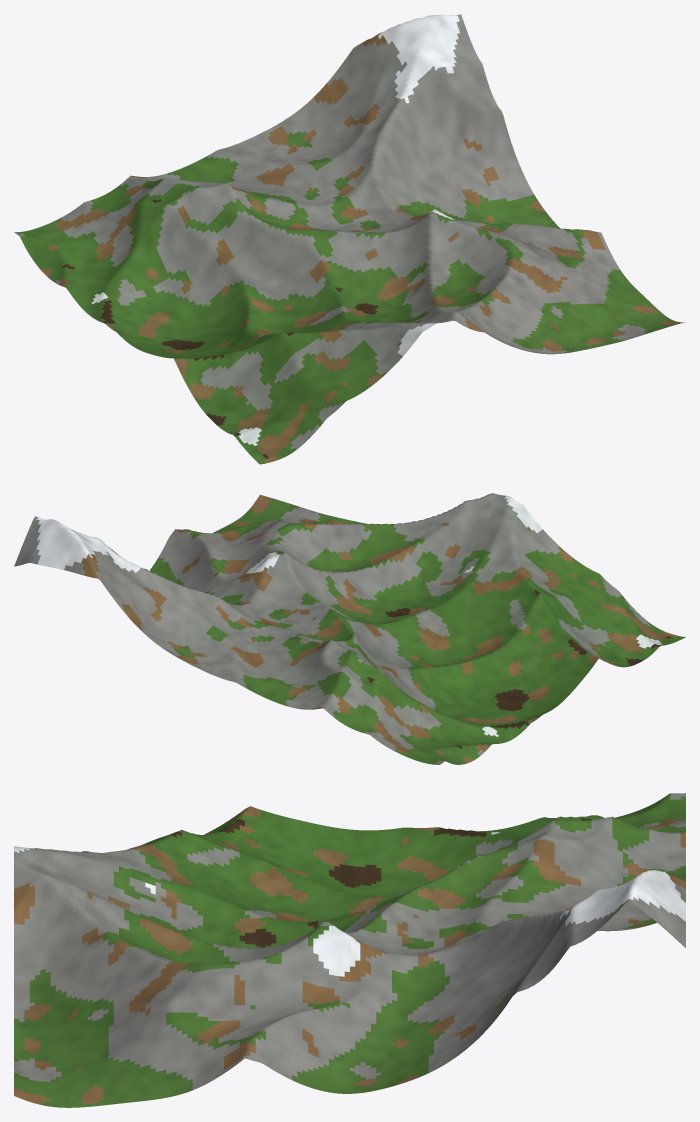
Rendered from chunk_1_0.glb.
3 renders of one model, top to bottom at view 1: azimuth 30°, elevation 25°; view 2: azimuth 150°, elevation 25°; view 3: azimuth 270°, elevation 25°, orthographic. The views are drawn at different scales.
Parts seen in each view (by area): view 1: Surface_Gravel, Surface_Grass, Surface_Dirt, Surface_Snow, Surface_Mud; view 2: Surface_Gravel, Surface_Grass, Surface_Dirt, Surface_Snow, Surface_Mud; view 3: Surface_Gravel, Surface_Grass, Surface_Dirt, Surface_Snow, Surface_Mud.
Boxes of the visible parts, left/top/right/bottom form: Surface_Gravel: left=14, top=14, right=646, bottom=449; Surface_Grass: left=17, top=131, right=675, bottom=464; Surface_Dirt: left=41, top=32, right=685, bottom=463; Surface_Snow: left=91, top=14, right=459, bottom=445; Surface_Mud: left=62, top=199, right=378, bottom=458; Surface_Gravel: left=14, top=493, right=650, bottom=764; Surface_Grass: left=149, top=498, right=685, bottom=764; Surface_Dirt: left=81, top=494, right=678, bottom=763; Surface_Snow: left=36, top=495, right=662, bottom=736; Surface_Mud: left=367, top=590, right=671, bottom=748; Surface_Gravel: left=14, top=793, right=685, bottom=1089; Surface_Grass: left=14, top=793, right=685, bottom=1107; Surface_Dirt: left=14, top=806, right=685, bottom=1104; Surface_Snow: left=14, top=832, right=685, bottom=976; Surface_Mud: left=82, top=818, right=591, bottom=947.
Bounding box in the file's own units: 256 × 106 × 256.
